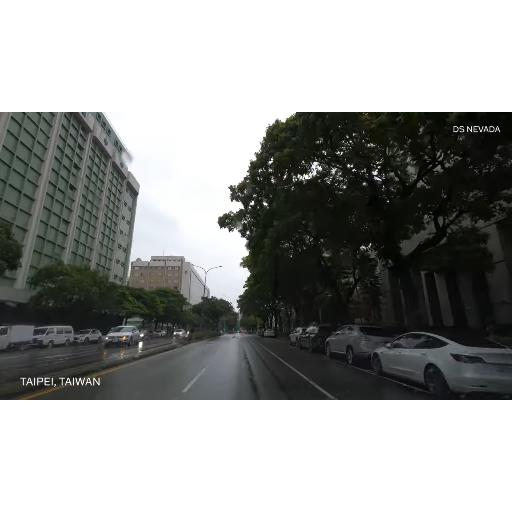Car: (368, 330, 512, 400), (326, 324, 394, 364), (298, 325, 344, 351), (30, 324, 74, 350), (0, 324, 36, 352), (105, 326, 139, 346), (71, 328, 103, 346), (288, 328, 314, 348), (130, 330, 150, 342), (264, 328, 276, 338), (154, 330, 166, 338), (175, 329, 185, 337), (258, 329, 266, 335)
